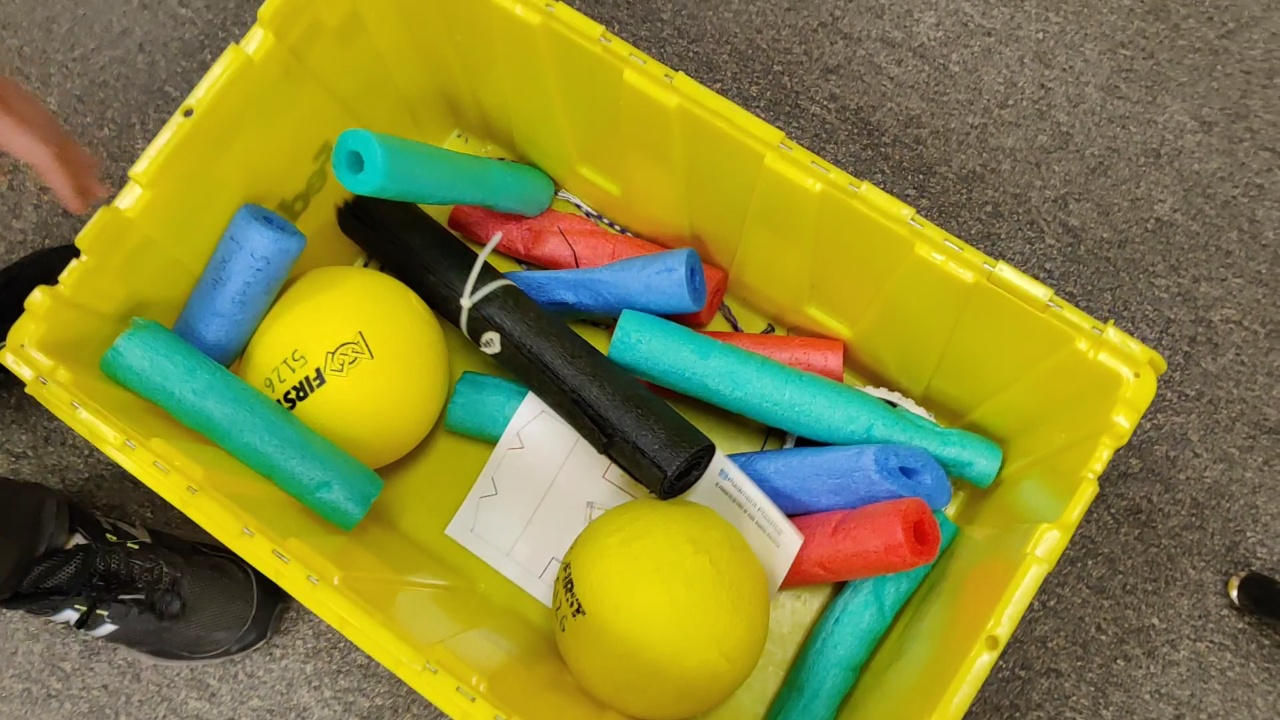Ball: (551, 499, 772, 720), (235, 266, 449, 472)
